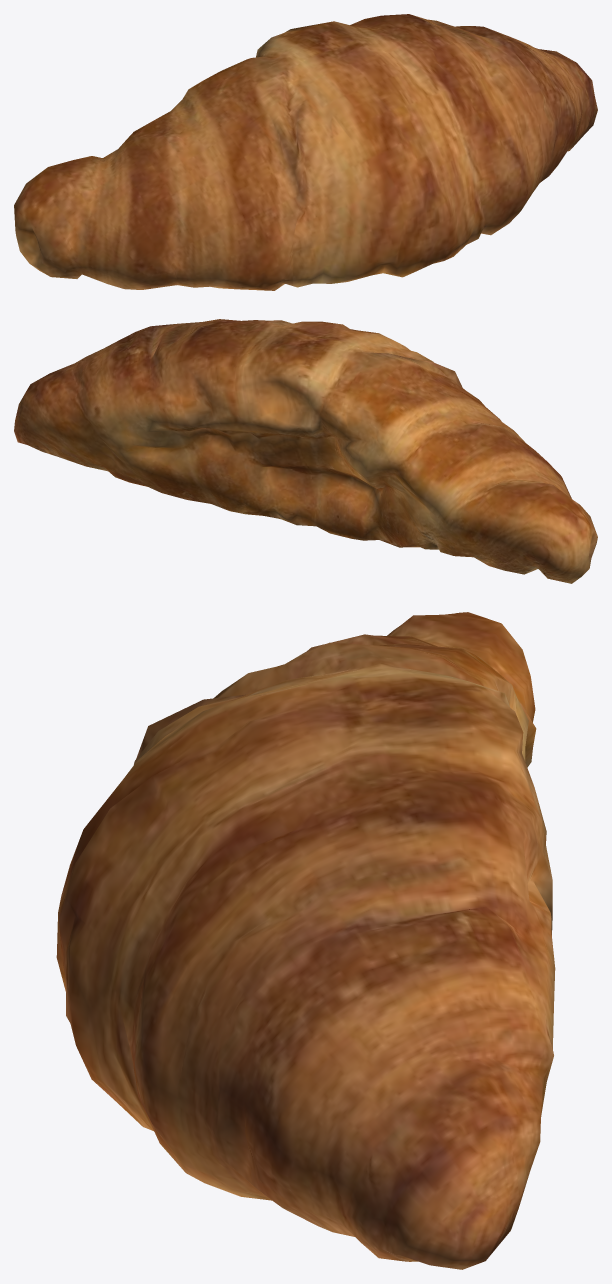
The model's file is croissant.glb.
3 renders of one model, top to bottom at view 1: azimuth 30°, elevation 25°; view 2: azimuth 150°, elevation 25°; view 3: azimuth 270°, elevation 25°, orthographic. The views are drawn at different scales.
Parts seen in each view (by area): view 1: croissant; view 2: croissant; view 3: croissant.
Boxes of the visible parts, left/top/right/bottom form: croissant: left=14, top=14, right=597, bottom=290; croissant: left=14, top=319, right=597, bottom=583; croissant: left=56, top=612, right=555, bottom=1269.
Size of the model in its own units: 0.2 by 0.062 by 0.0755.
1 material, 1 textured.
